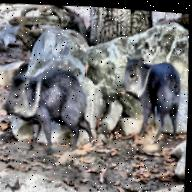boar: (0, 60, 99, 161), (116, 52, 185, 148)
